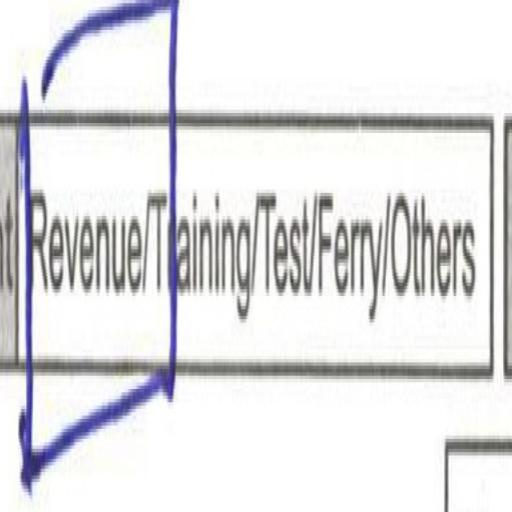check: (15, 0, 164, 512)
